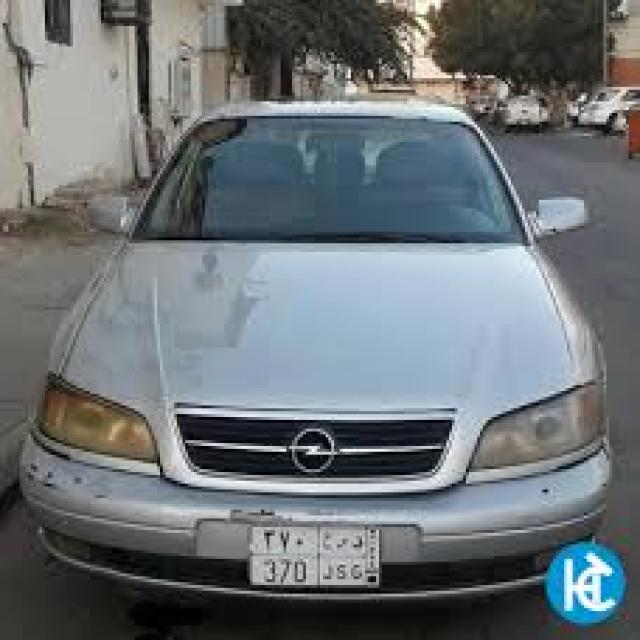license_plate: (247, 521, 385, 591)
